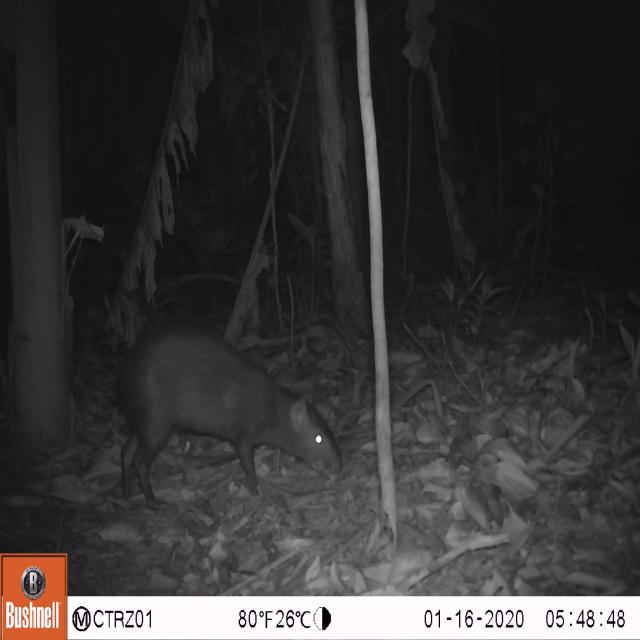Black Agouti: (104, 314, 355, 516)
